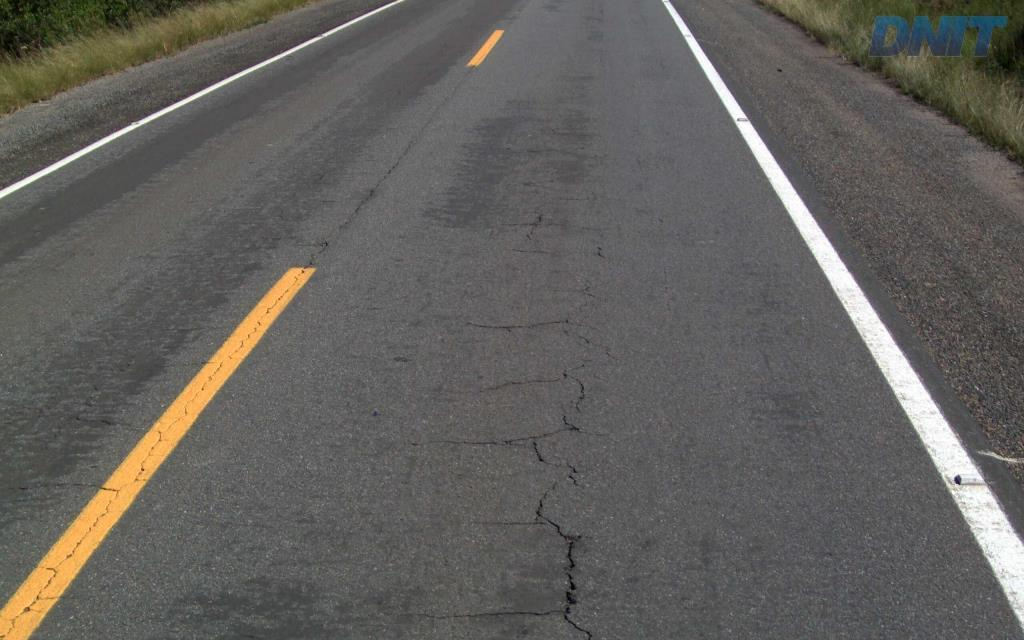crack: (453, 499, 592, 639)
